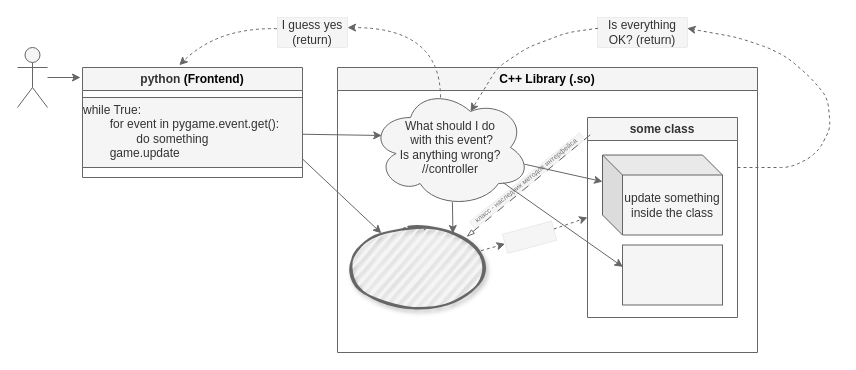
Some shapes in this 856 by 370 pixel diagram are drawn without their labels. The centre of each missing label's shape, as x and y in pixels:
do it now: the point at 529,237
do something for all objects at the same time //interface: the point at 418,268
return/recount something: the point at 672,274
User: the point at 32,77
